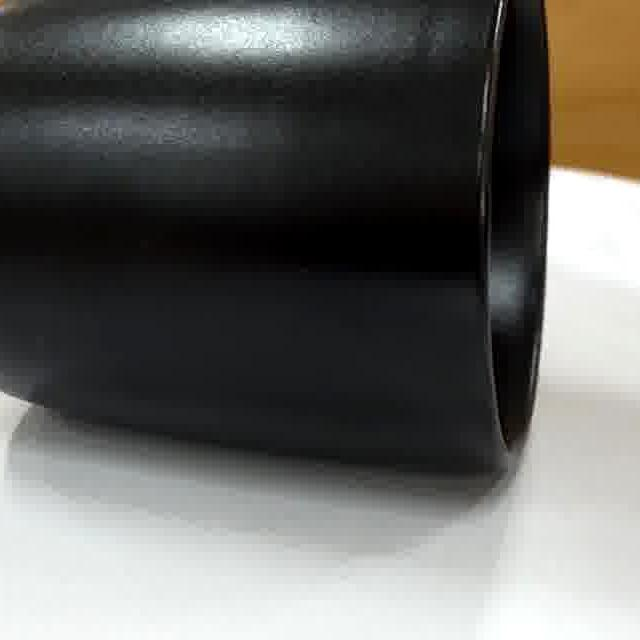cup: (0, 0, 550, 479)
